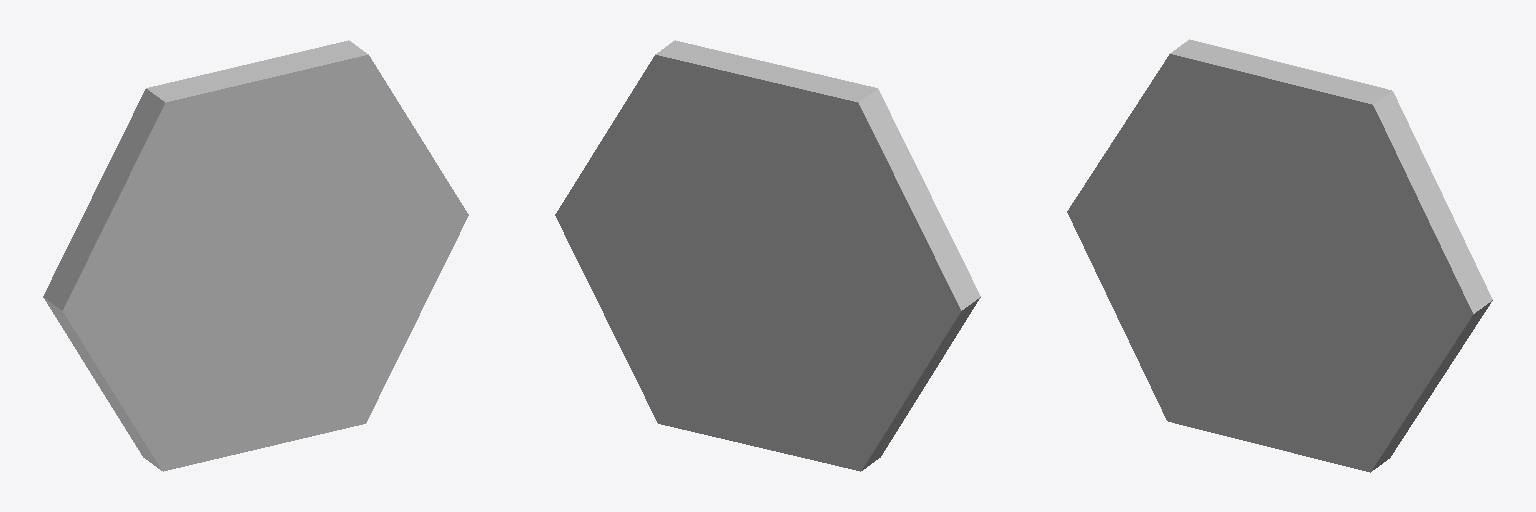
The model's file is plate_withpattern.obj.
The picture shows the model from 3 angles: view 1: azimuth 30°, elevation 25°; view 2: azimuth 150°, elevation 25°; view 3: azimuth 330°, elevation 25°; orthographic projection.
Parts seen in each view (by area): view 1: Plate v1; view 2: Plate v1; view 3: Plate v1.
Boxes of the visible parts, box(x1,y1,x2,y2) form: Plate v1: box(43, 40, 468, 471); Plate v1: box(555, 40, 980, 471); Plate v1: box(1067, 39, 1492, 472).
Size of the model in its own units: 12 by 10.44 by 1.